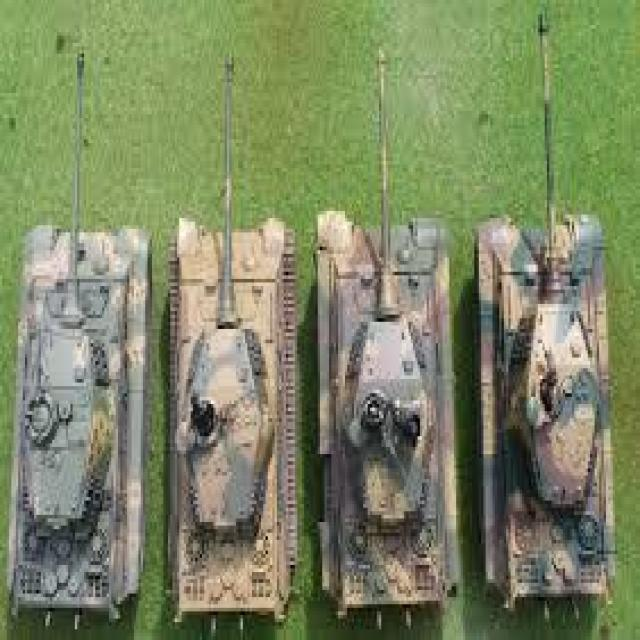Tanks: (471, 148, 625, 628), (310, 168, 464, 619), (16, 190, 143, 630), (168, 189, 297, 615)
